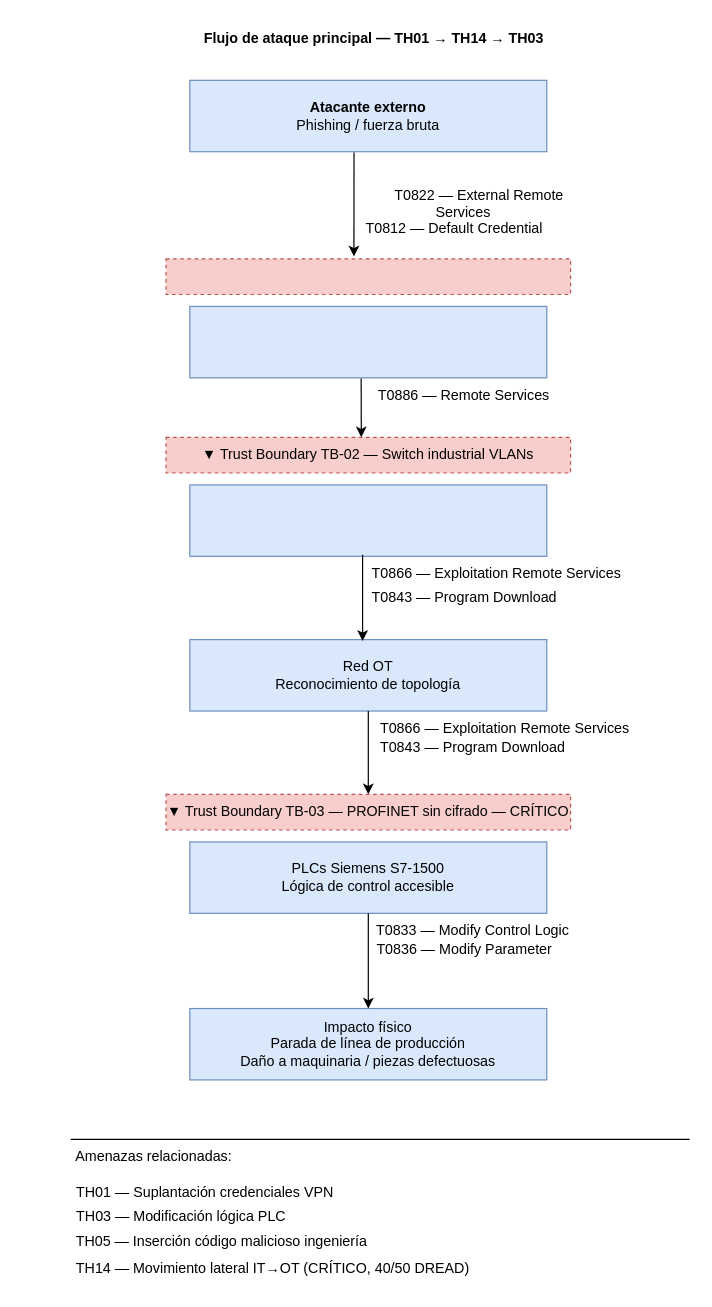
This 712x1307 diagram has some shape labels left out. The shapes that lost their labels are listed below. From the top down, each one's centre as x and y in pixels, then its label:
At (368,276): "▼ Trust Boundary TB-04 — VPN Gateway".
At (368,341): "VPN Gateway (DMZ) Credenciales comprometidas".
At (368,520): "Servidor de ingeniería TIA Portal / Studio 5000".
